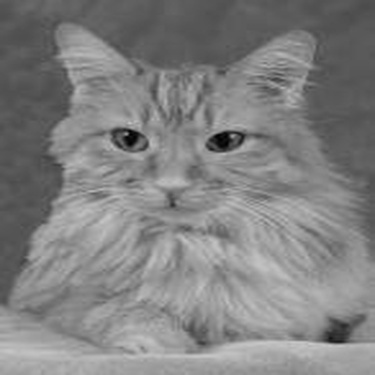cat: (4, 19, 373, 355)
